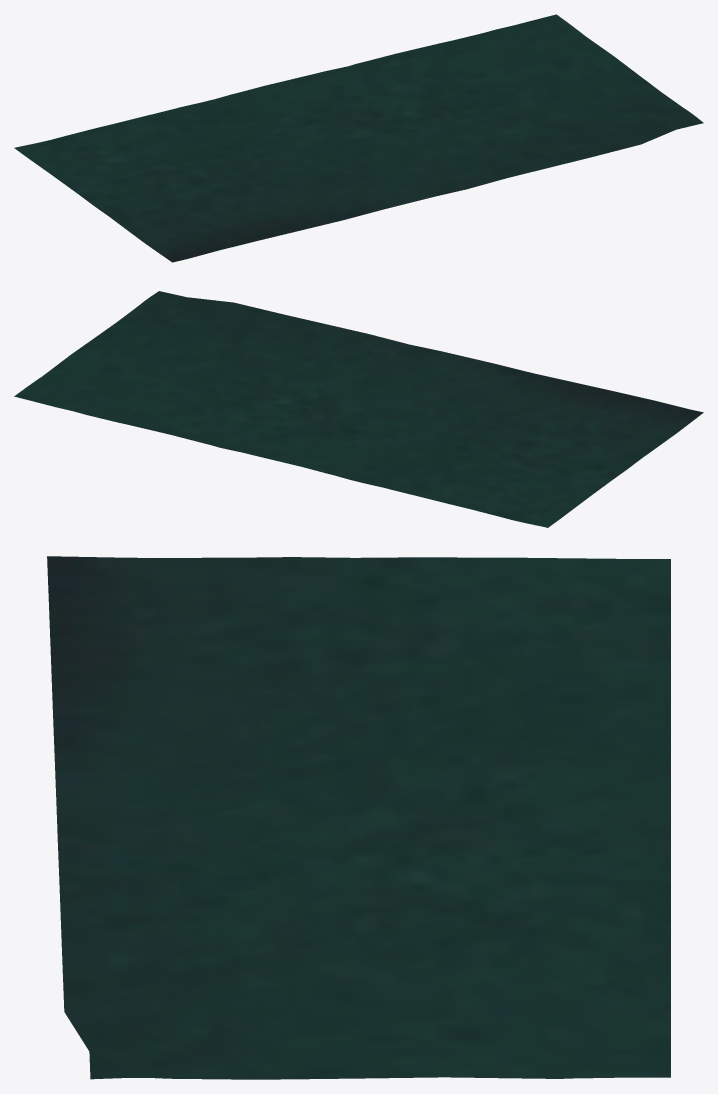
3 renders of one model, top to bottom at view 1: azimuth 30°, elevation 25°; view 2: azimuth 150°, elevation 25°; view 3: azimuth 270°, elevation 25°, orthographic. The views are drawn at different scales.
Size of the model in its own units: 52.22 by 0.2872 by 26.42.
1 material, 1 textured.
